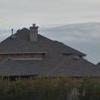Chimney: (24, 19, 43, 42)
